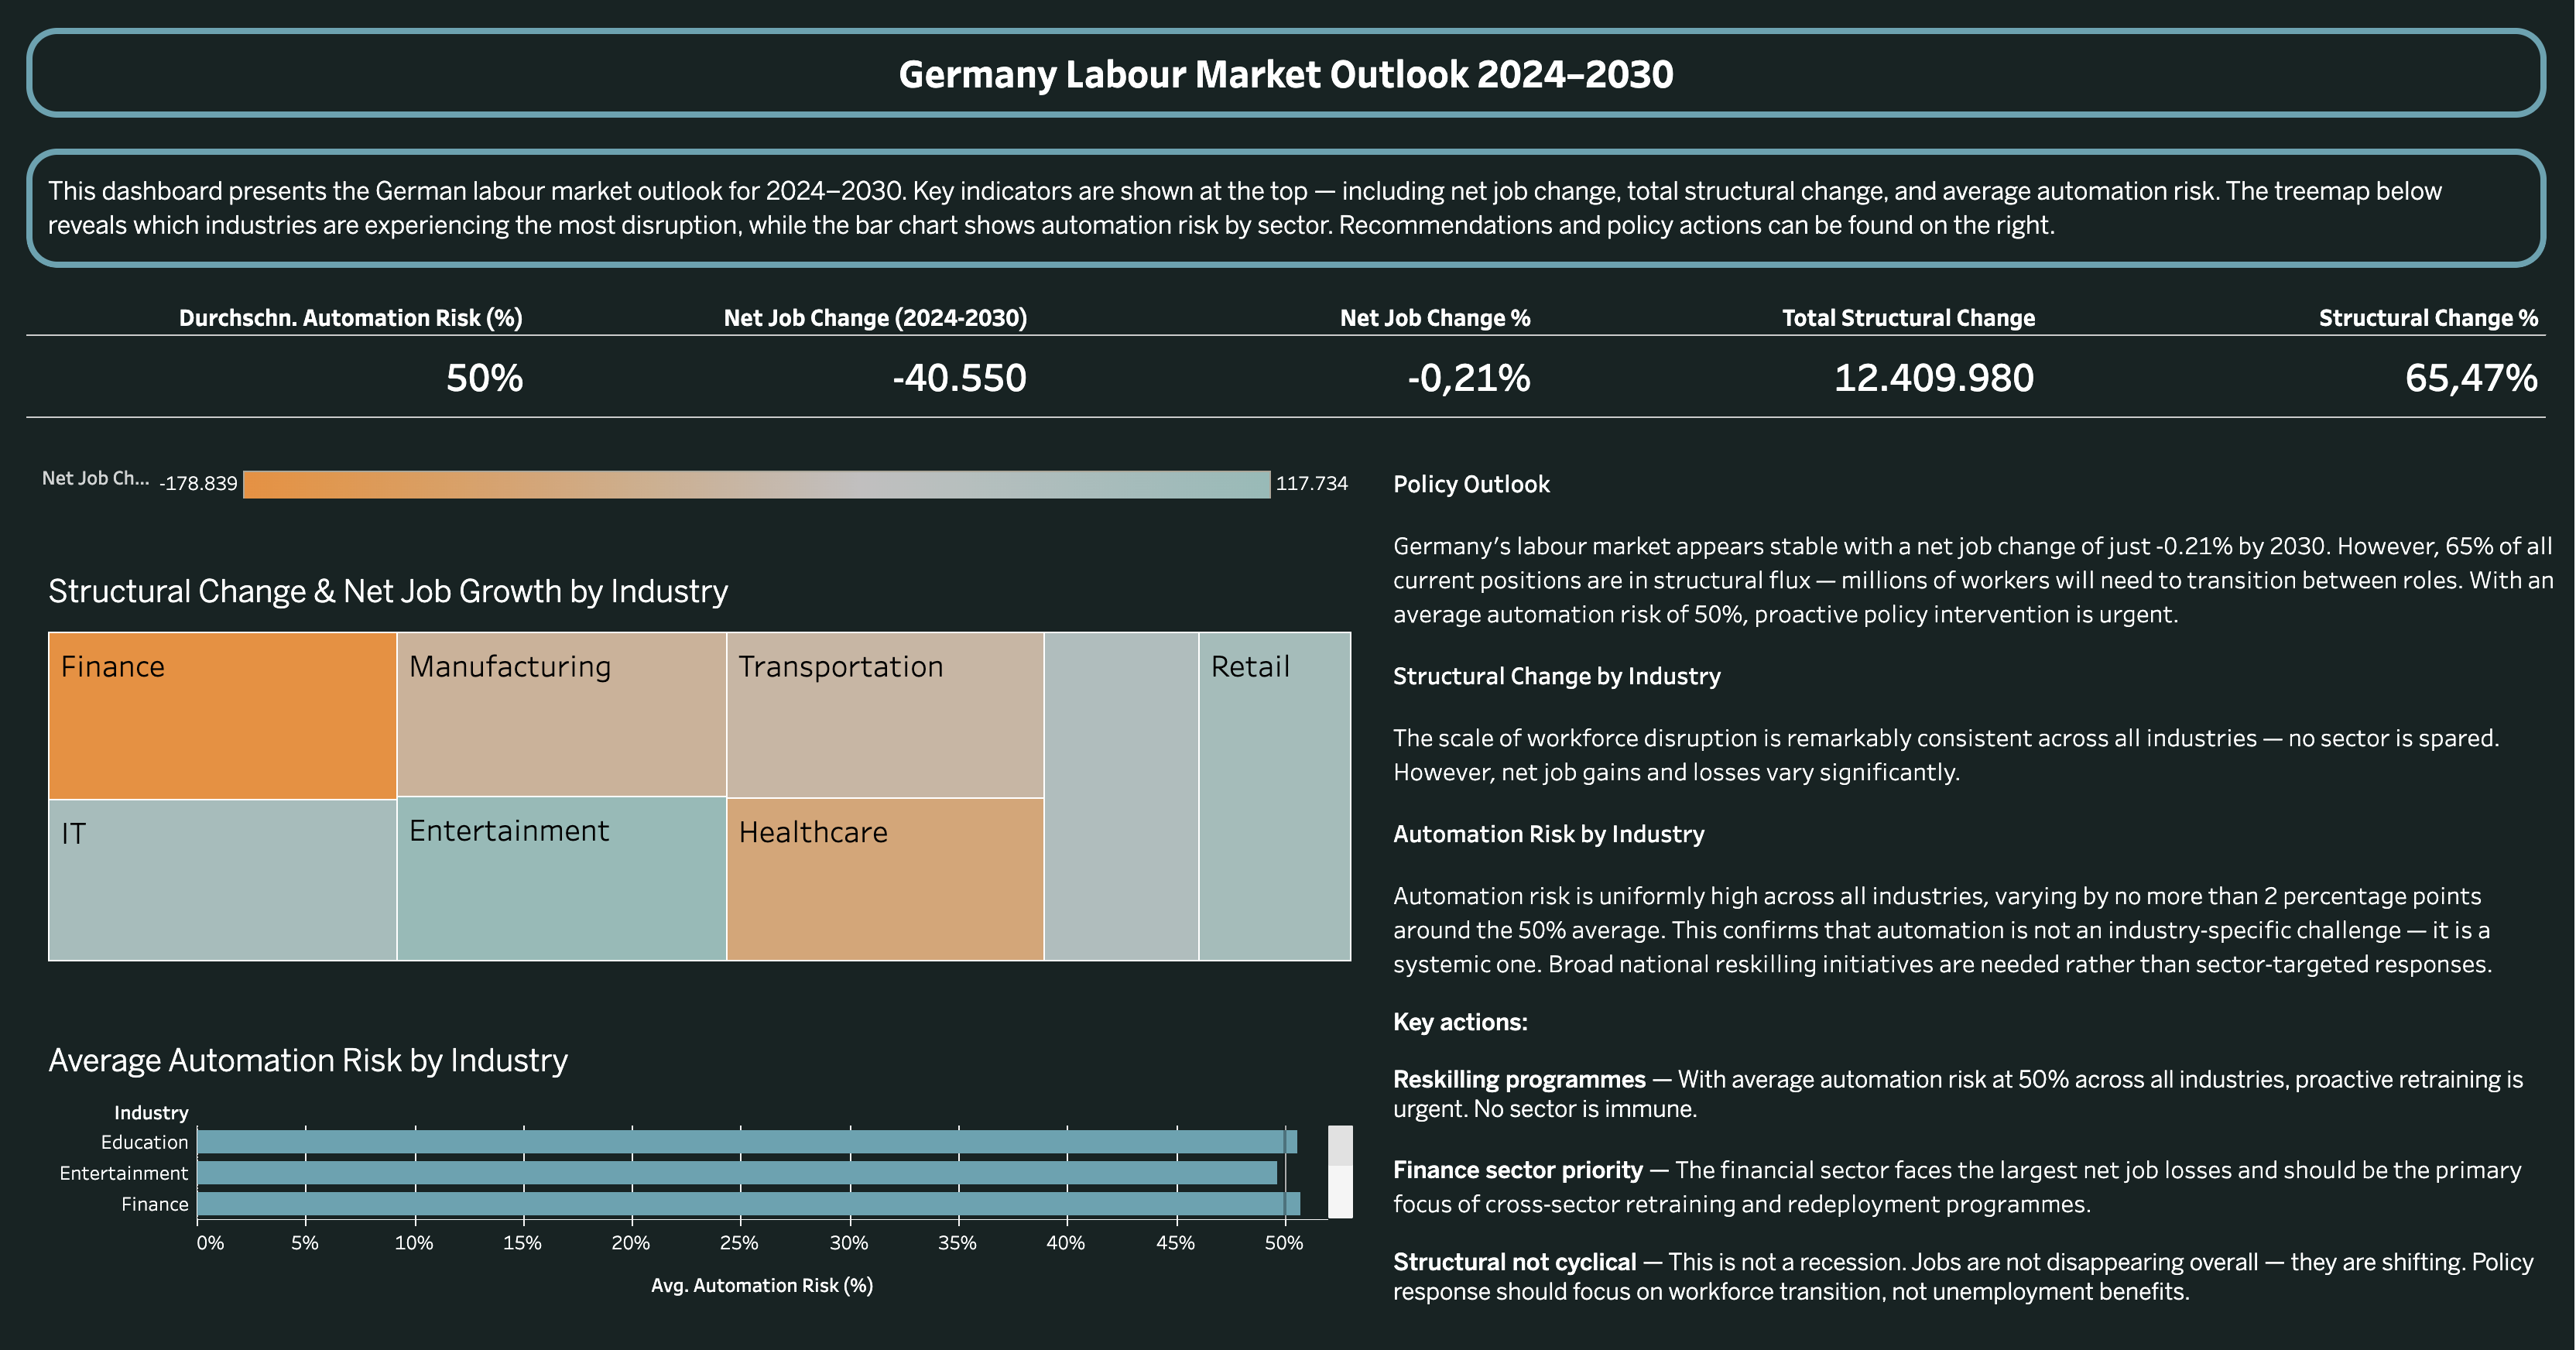

This screenshot's page, from the dashboard's own definition file:
{"tool":"tableau","page":{"name":"Germany Labour Market Outlook 2024–2030","canvas":[1000,1000],"units":"permille","ordinal":3},"visuals":[{"type":"title","box":[5.9,8.8,988.1,86.2]},{"type":"text","box":[5.9,95,988.1,107.2]},{"type":"worksheet","title":"German Policymaker - KPIs","mark":"Text","box":[5.9,202.2,988.1,107.2]},{"type":"legend","title":"Ger Policymaker - Treemap","param":"[federated.0zkye0v0ev2j971b2q8he0505eqy].[usr:Calculation_4991624308985856:qk]","box":[5.9,309.4,658.5,72.7]},{"type":"text","box":[664.5,309.4,329.6,681.8]},{"type":"worksheet","title":"Ger Policymaker - Treemap","mark":"Automatic","box":[5.9,382.1,658.5,353.5]},{"type":"worksheet","title":"Ger Policymaker - Automation Risk","mark":"Automatic","rows":["Industry"],"cols":["Automation Risk (%)"],"box":[5.9,735.6,658.5,255.5]}]}

Visuals, with their boxes on the dashboard's canvas, which has no fixed pixel size, in thousandths of its width and height (x1, y1, x2, y2). These are canvas units, not pixel positions in the 2576x1350 screenshot, which may show the page scaled, cropped or inside an application window:
title: rect(6, 9, 994, 95)
text: rect(6, 95, 994, 202)
"German Policymaker - KPIs" worksheet (Text marks): rect(6, 202, 994, 309)
"Ger Policymaker - Treemap" legend: rect(6, 309, 664, 382)
text: rect(664, 309, 994, 991)
"Ger Policymaker - Treemap" worksheet: rect(6, 382, 664, 736)
"Ger Policymaker - Automation Risk" worksheet: rect(6, 736, 664, 991)
